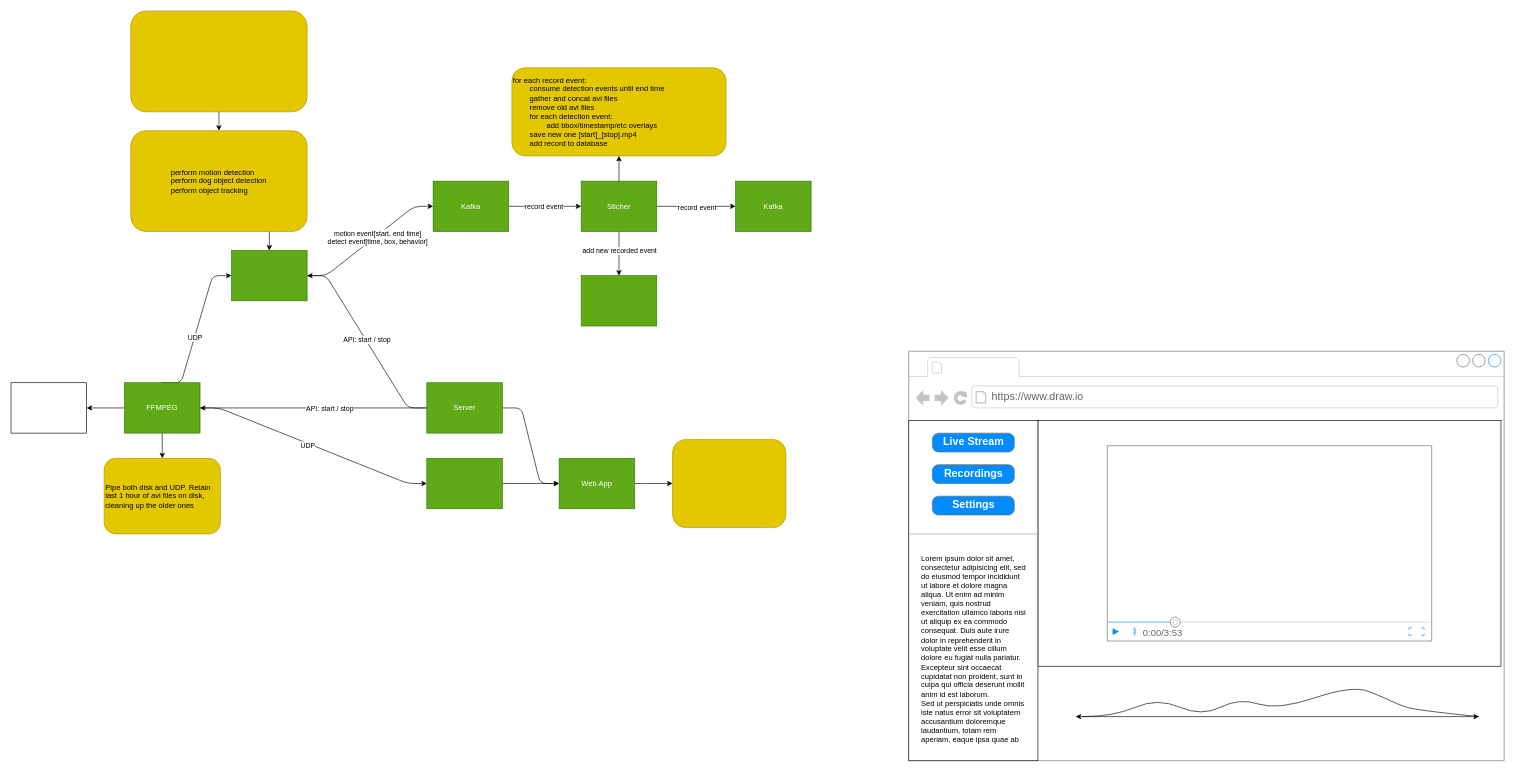
Some shapes in this 1515 by 772 pixel diagram are drawn without their labels. Here are the shapes that lost their labels. From the top down, the box of each, then its label:
(130, 10, 307, 112): train dog object detection model (need Hapa detections for more accurate model)
(231, 250, 307, 301): Core
(581, 275, 657, 326): Postgres
(946, 358, 1016, 375): Page 1
(10, 382, 87, 433): Webcam
(426, 458, 502, 509): Relay
(672, 439, 786, 528): Start/stop streaming/recording Modify configurations Review recorded events
